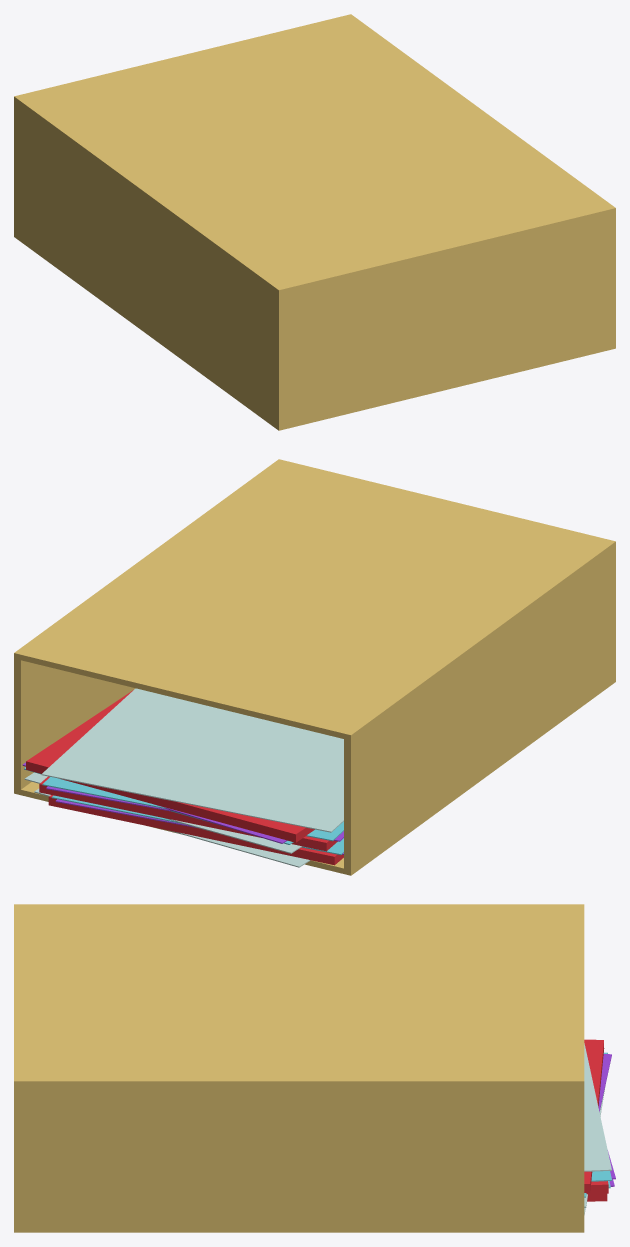
File: Organizer.fbx
The picture shows the model from 3 angles, top to bottom: view 1: azimuth 30°, elevation 25°; view 2: azimuth 150°, elevation 25°; view 3: azimuth 270°, elevation 25°; orthographic projection. The views are drawn at different scales.
Parts seen in each view (by area): view 1: Cube.069; view 2: Cube.069; view 3: Cube.069.
Boxes of the visible parts, box(x1,y1,x2,y2) form: Cube.069: box(14, 14, 615, 430); Cube.069: box(14, 459, 615, 875); Cube.069: box(14, 904, 615, 1232).
Size of the model in its own units: 32.94 by 13.12 by 47.32.
